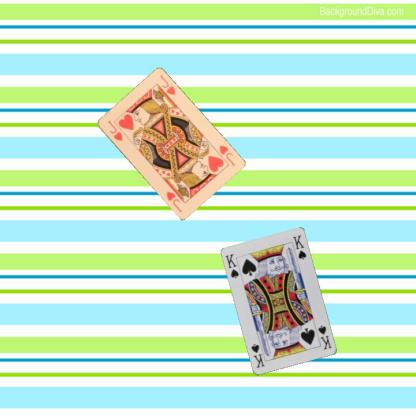Jh: (211, 143, 236, 167), (105, 118, 124, 142)
Ks: (315, 323, 333, 351), (223, 251, 240, 280)
